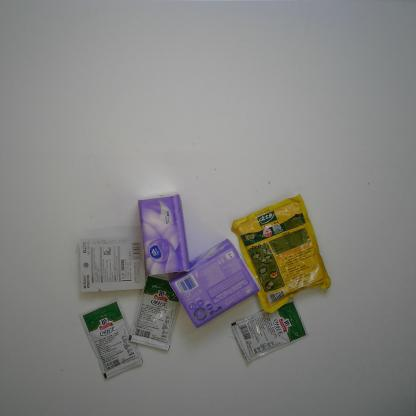Seasoner: (231, 193, 332, 315), (78, 298, 144, 380), (230, 298, 308, 364), (128, 271, 182, 352)
Stationery: (80, 236, 147, 293)
Tissue: (168, 238, 261, 328), (138, 191, 190, 277)
